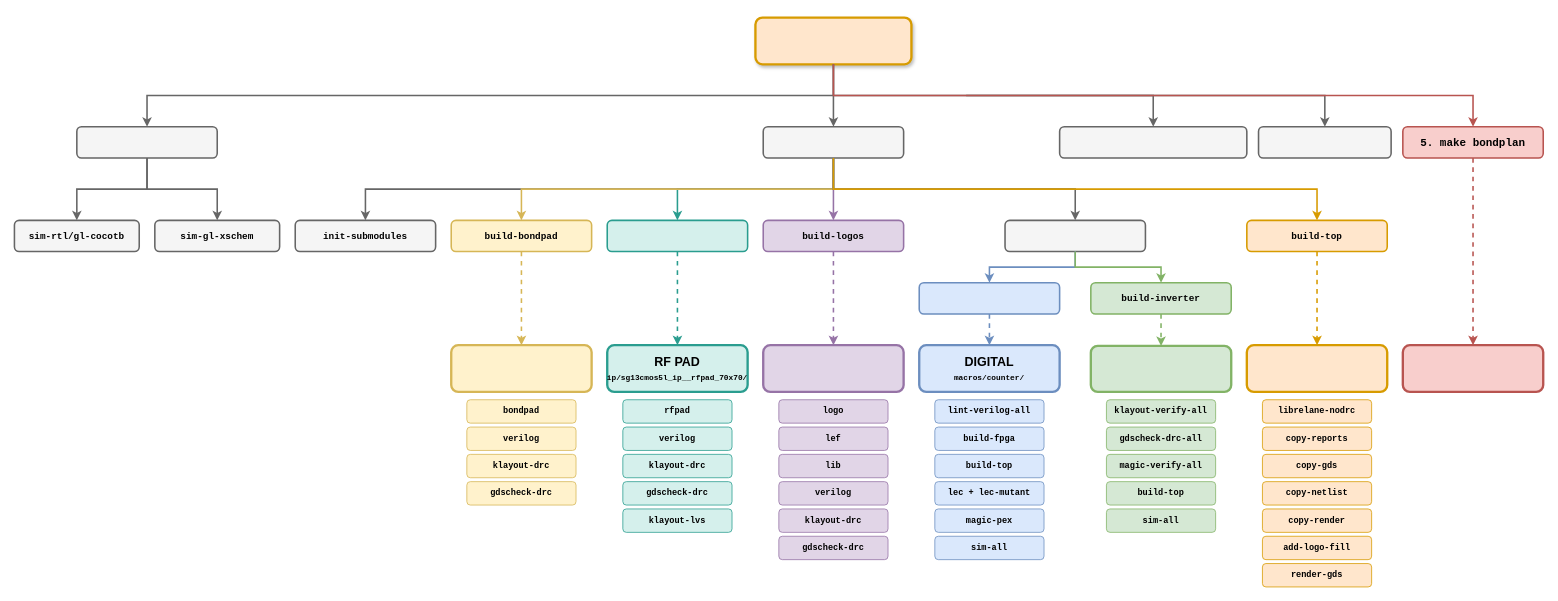
Image size: 1558x601. Some labels were removed from this diagram. The shapes that lost their labels are listed below. From the top down, each one's centre as x and y in pixels, then its label:
the point at 834,42: make all
the point at 147,142: 4. make sim-all
the point at 833,142: 1. make build-all
the point at 1152,142: 2. make klayout-drc-regular make gdscheck-drc-regular
the point at 1324,142: 3. make klayout-lvs make magic-lvs
the point at 677,235: build-rfpad
the point at 1075,235: build-macros
the point at 989,298: build-counter
the point at 521,368: BONDPAD ip/sg13cmos5l_ip__bondpad_70x70/
the point at 833,368: LOGOS ip/sg13cmos5l_ip__jku*/ ip/sg13cmos5l_ip__template_name/
the point at 1160,368: ANALOG macros/inverter/
the point at 1316,368: TOP CHIP top-level Makefile
the point at 1472,368: PACKAGING packaging/
